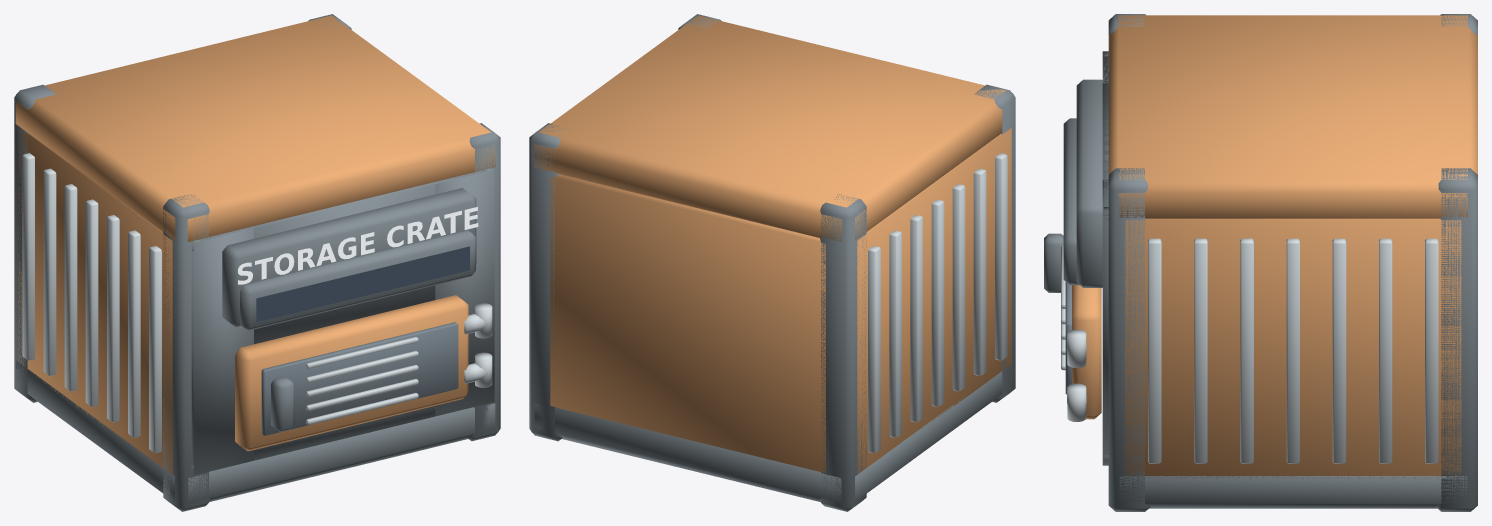
The model's file is storage_crate_standard.glb.
3 renders of one model, left to right at view 1: azimuth 30°, elevation 25°; view 2: azimuth 150°, elevation 25°; view 3: azimuth 270°, elevation 25°, orthographic. The views are drawn at different scales.
Visible parts, largest first — view 1: Roof_orange, CargoRib_steel, SideWall_orange, SealJamb_frame, CornerPost_frame, Skid_frame, DoorMoving_Panel_orange, Header_frame, DoorMoving_Inset_graphite, ResourceNameSurfaceFrame_frame, ResourceNameSurface_glass, SealHeader_frame (+7 smaller); view 2: RearWall_orange, Roof_orange, CornerPost_frame, SideWall_orange, CargoRib_steel, Skid_frame; view 3: Roof_orange, SideWall_orange, CornerPost_frame, CargoRib_steel, Skid_frame, Header_frame, DoorMoving_Panel_orange, ResourceNameSurfaceFrame_frame, SealSideReturn_frame, DoorHinge_steel, SealJamb_frame, DoorMoving_Handle_frame (+4 smaller).
Part boxes in pixels (x1,y1,x2,y2): Roof_orange: (15, 15, 495, 241); CargoRib_steel: (22, 153, 161, 453); SideWall_orange: (18, 128, 172, 474); SealJamb_frame: (191, 169, 494, 475); CornerPost_frame: (14, 14, 500, 511); Skid_frame: (16, 360, 495, 502); DoorMoving_Panel_orange: (235, 295, 468, 451); Header_frame: (222, 188, 476, 327); DoorMoving_Inset_graphite: (261, 322, 458, 435); ResourceNameSurfaceFrame_frame: (240, 230, 475, 330); ResourceNameSurface_glass: (256, 246, 469, 322); SealHeader_frame: (252, 184, 435, 344); RearWall_orange: (550, 174, 825, 472); Roof_orange: (534, 15, 1005, 241); CornerPost_frame: (529, 14, 1015, 511); SideWall_orange: (857, 128, 1011, 474); CargoRib_steel: (868, 153, 1007, 453); Skid_frame: (534, 369, 1012, 502); Roof_orange: (1108, 15, 1477, 218); SideWall_orange: (1125, 218, 1461, 478); CornerPost_frame: (1108, 14, 1477, 511); CargoRib_steel: (1148, 238, 1438, 463); Skid_frame: (1119, 476, 1467, 508); Header_frame: (1076, 79, 1102, 287); DoorMoving_Panel_orange: (1072, 285, 1101, 419); ResourceNameSurfaceFrame_frame: (1063, 118, 1079, 285); SealSideReturn_frame: (1103, 51, 1108, 465); DoorHinge_steel: (1067, 329, 1086, 421); SealJamb_frame: (1102, 51, 1108, 465); DoorMoving_Handle_frame: (1044, 233, 1063, 292).
Size of the model in its own units: 1.08 by 0.92 by 1.09.
